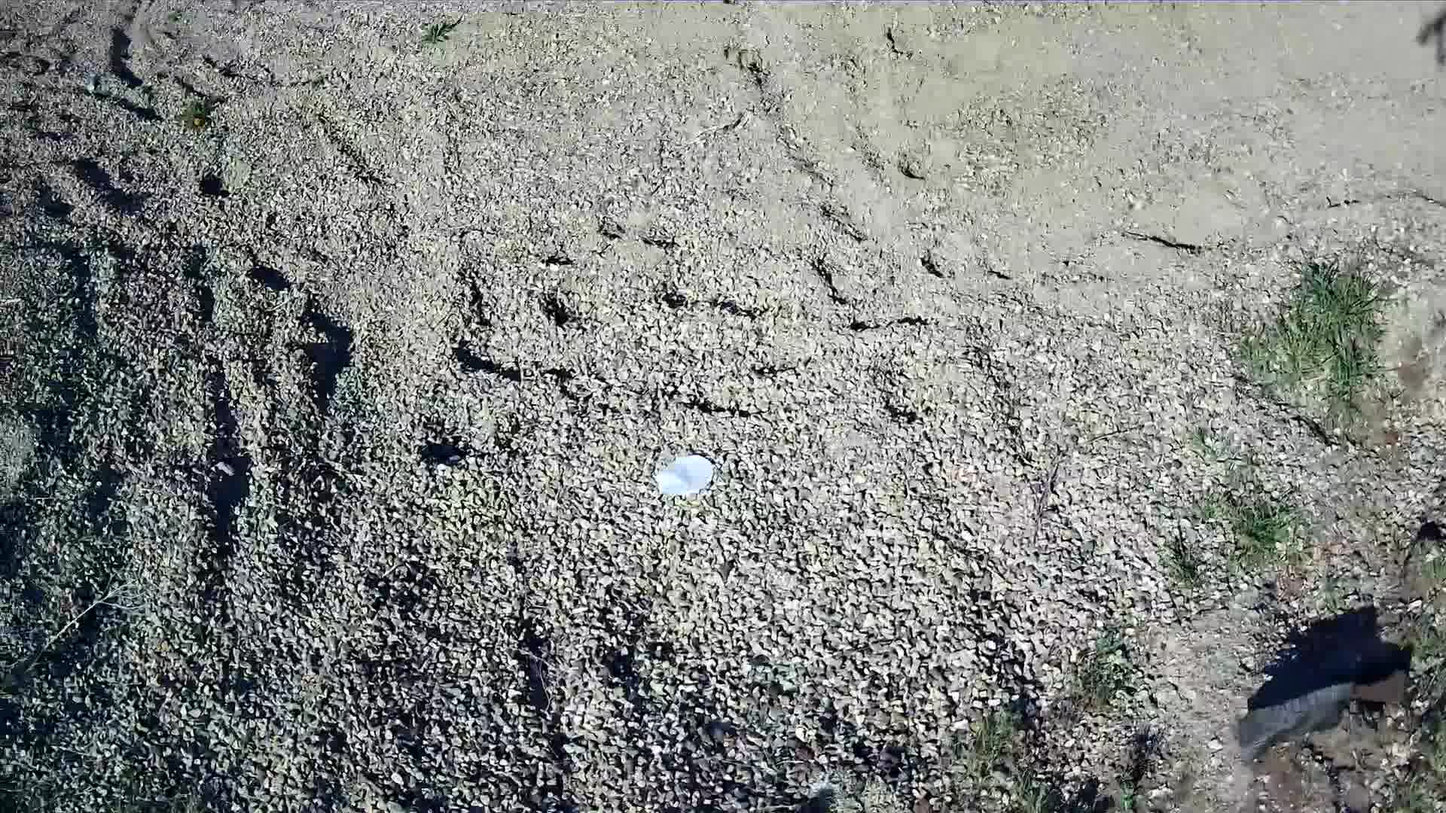Target: (657, 457, 712, 494)
